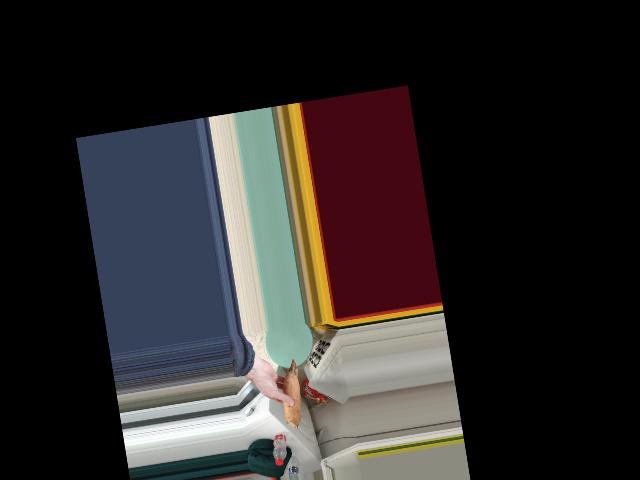sweet_potato: (276, 357, 305, 424)
